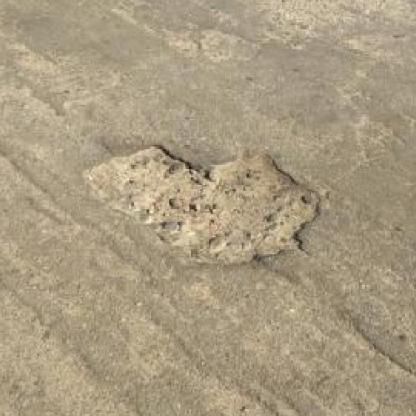pothole: (82, 142, 321, 264)
